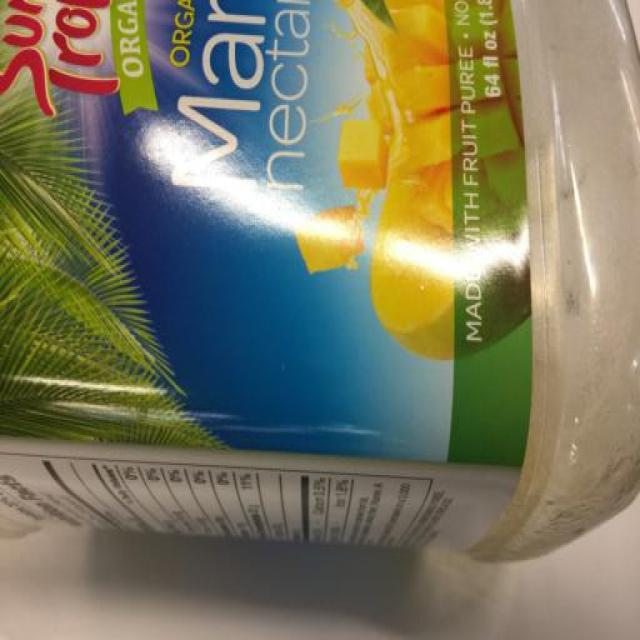plastic_bottle: (1, 1, 640, 579)
